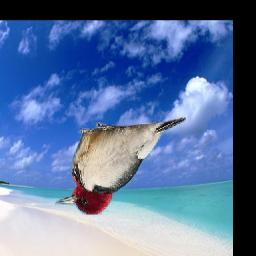Woodpecker: (56, 118, 187, 216)
